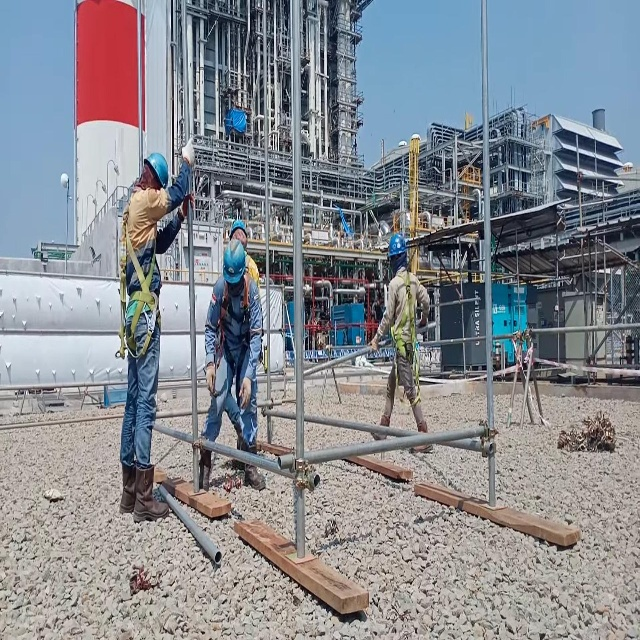Arnes_seguridad: (113, 189, 166, 362), (390, 265, 423, 408), (212, 269, 255, 377)
